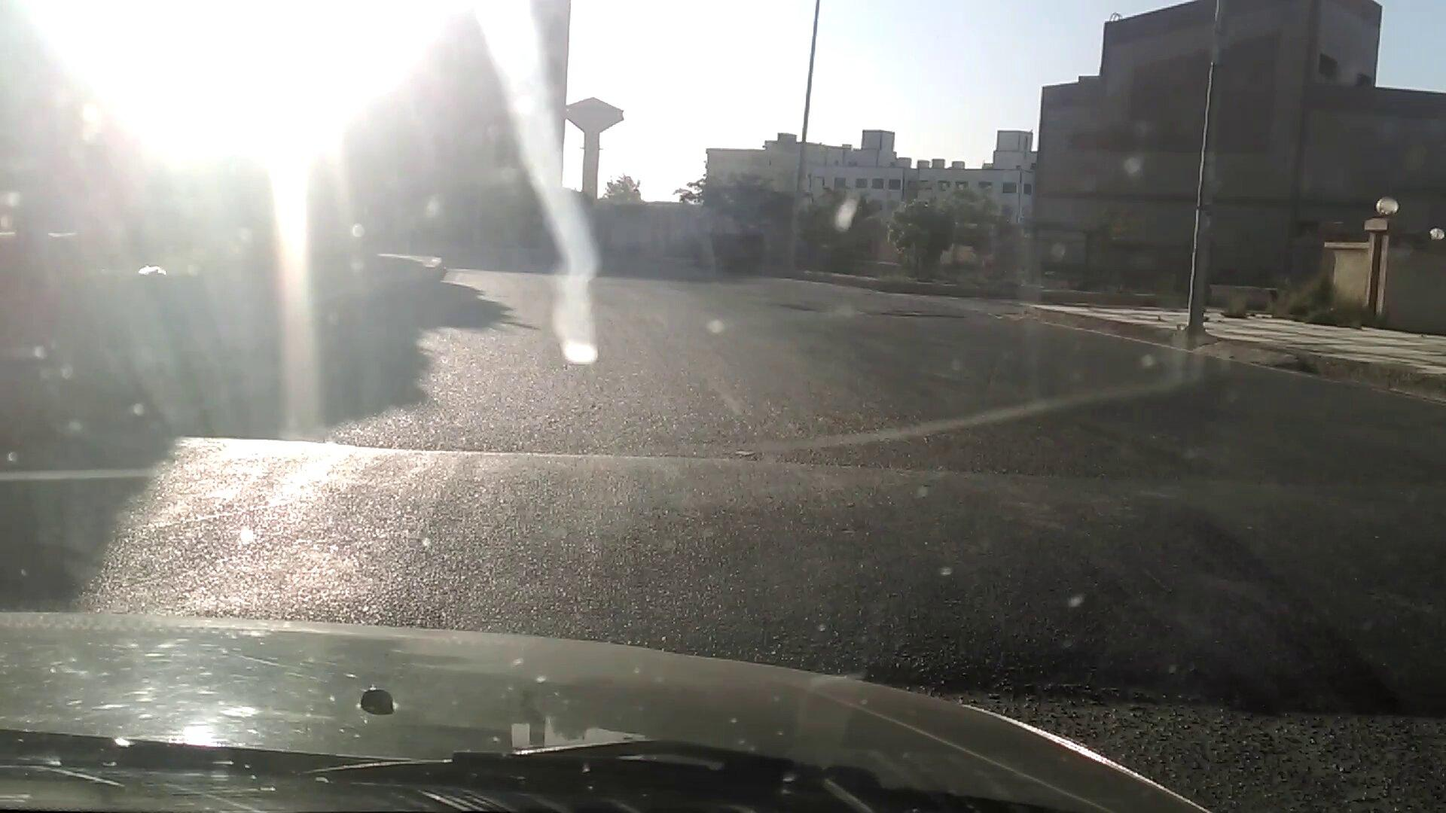Bump: (0, 428, 1445, 720)
